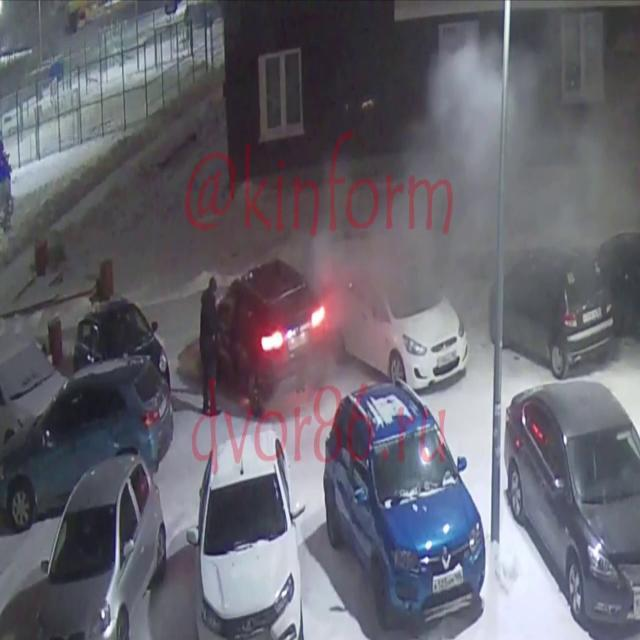Smoke: (322, 8, 640, 352)
